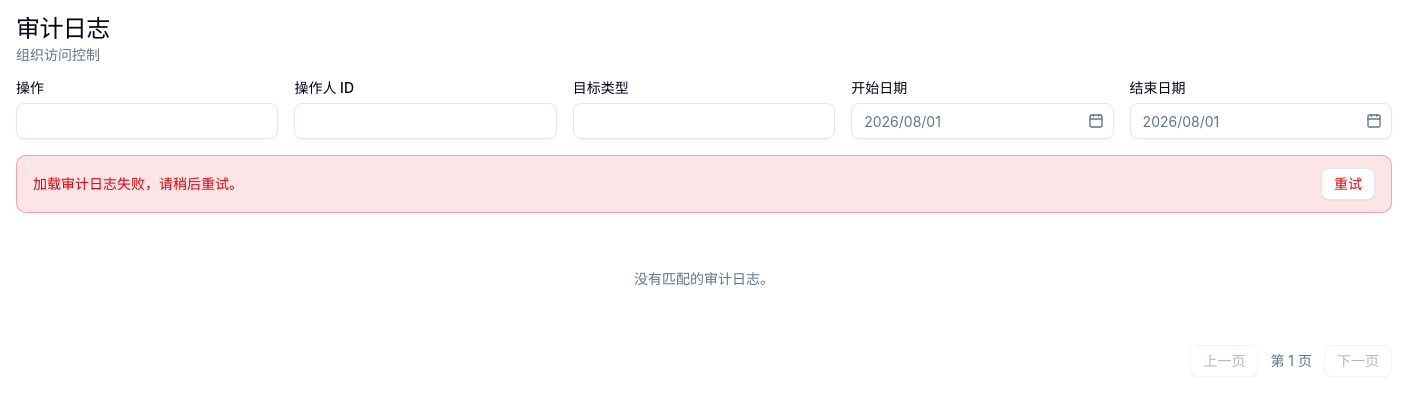
Test: AuditLogsPage › shows a safe error and allows retrying a failed load
expect the message shows "加载审计日志失败，请稍后重试。": met, box [33, 175, 243, 192]
Click the button "重试": click(1348, 184) [1321, 168, 1375, 200]
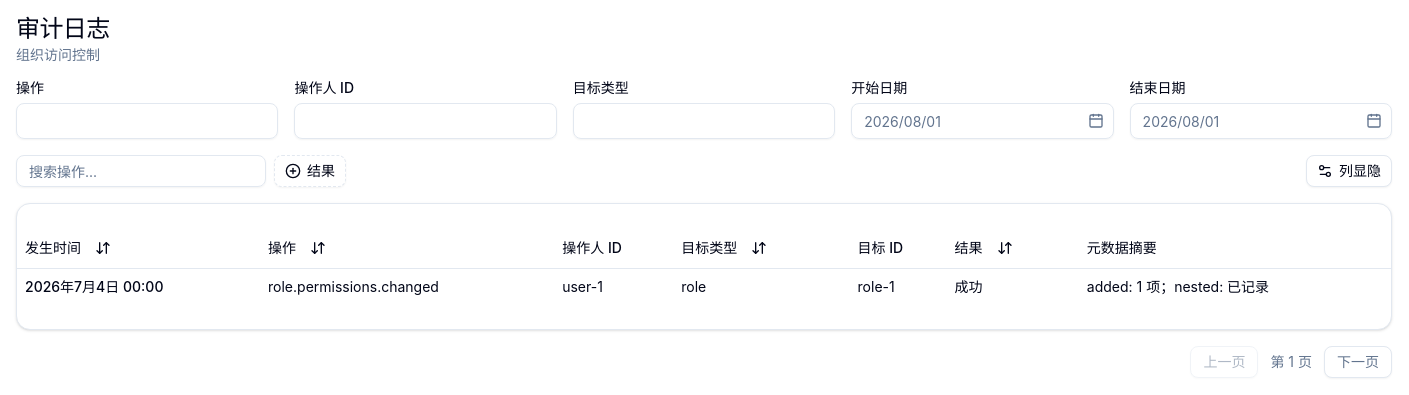
expect the text "role.permissions.changed" is shown: met, box [260, 268, 554, 304]
expect the message "加载审计日志失败，请稍后重试。 重试" is gone: met
